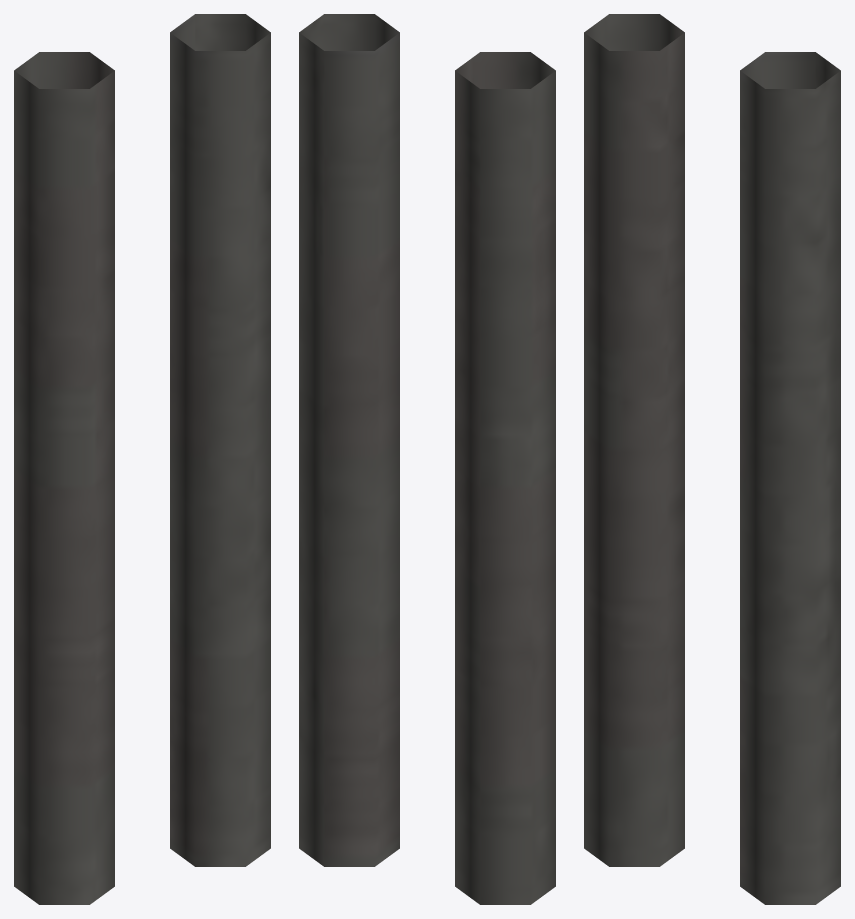
File: cable_double_10cm.gltf
The picture shows the model from 3 angles, left to right: view 1: azimuth 30°, elevation 25°; view 2: azimuth 150°, elevation 25°; view 3: azimuth 330°, elevation 25°; orthographic projection.
Parts seen in each view (by area): view 1: cable_double_10cm; view 2: cable_double_10cm; view 3: cable_double_10cm.
Part boxes in pixels (x1=…): cable_double_10cm: x1=14, y1=14, x2=270, y2=904; cable_double_10cm: x1=299, y1=14, x2=555, y2=904; cable_double_10cm: x1=584, y1=14, x2=840, y2=904.
Bounding box in the file's own units: 0.0297 × 0.1 × 0.0112.
1 material, 1 textured.
